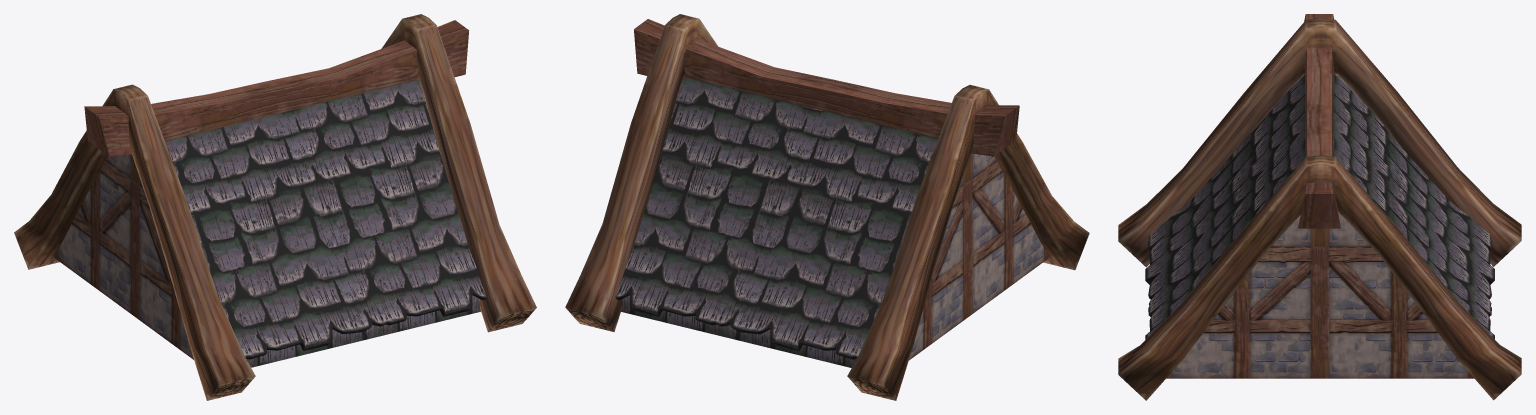
File: roof2x2.fbx
3 renders of one model, left to right at view 1: azimuth 30°, elevation 25°; view 2: azimuth 150°, elevation 25°; view 3: azimuth 270°, elevation 25°, orthographic. The views are drawn at different scales.
Visible parts, largest first — view 1: roof2x2; view 2: roof2x2; view 3: roof2x2.
Part boxes in pixels (x1,y1,x2,y2): roof2x2: [14, 14, 536, 400]; roof2x2: [565, 14, 1089, 400]; roof2x2: [1118, 14, 1521, 400].
Bounding box in the file's own units: 397 × 247 × 384.
